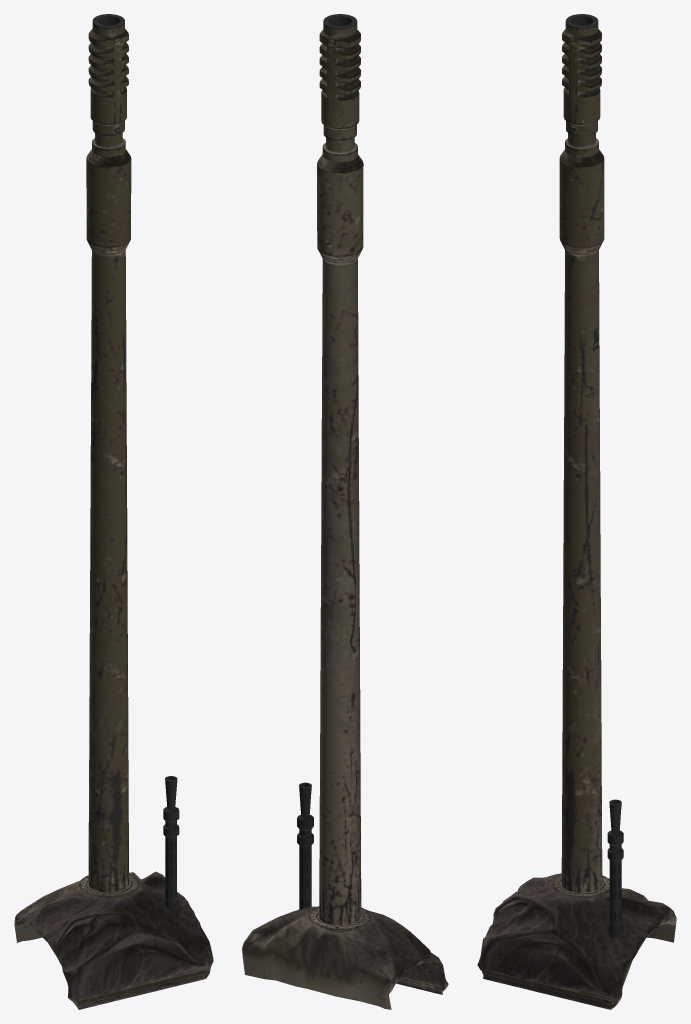
Rendered from Gun_01.glb.
The picture shows the model from 3 angles, left to right: view 1: azimuth 30°, elevation 25°; view 2: azimuth 150°, elevation 25°; view 3: azimuth 330°, elevation 25°; orthographic projection. The views are drawn at different scales.
Visible parts, largest first — view 1: set_0_group_0; view 2: set_0_group_0; view 3: set_0_group_0.
Boxes of the visible parts, x1,y1,x2,y2 form: set_0_group_0: (14,14,213,1009); set_0_group_0: (242,14,448,1009); set_0_group_0: (477,14,676,1009).
Bounding box in the file's own units: 0.8538 × 5.29 × 0.6118.
1 material, 1 textured.
